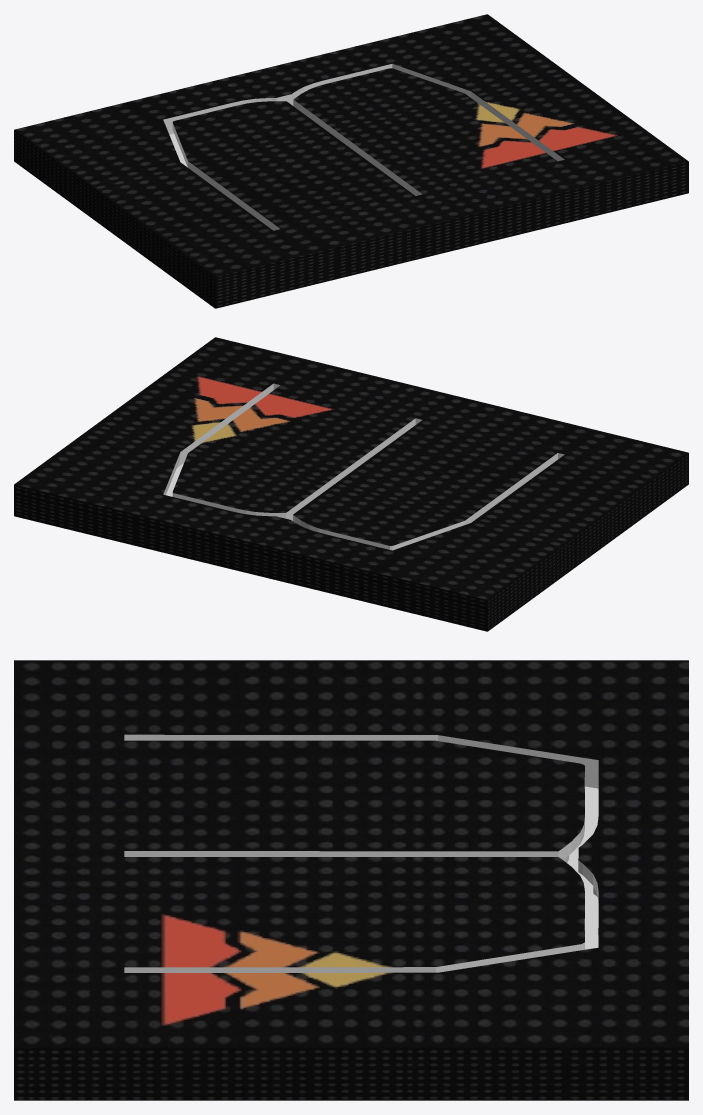
Rendered from BoxHanoiPuzzle.fbx.
3 views of the same model, one above another, from view 1: azimuth 30°, elevation 25°; view 2: azimuth 150°, elevation 25°; view 3: azimuth 270°, elevation 25° (orthographic). The views are drawn at different scales.
Visible parts, largest first — view 1: Box; view 2: Box; view 3: Box.
Boxes of the visible parts, x1=… form: Box: x1=14, y1=14, x2=688, y2=308; Box: x1=14, y1=337, x2=688, y2=631; Box: x1=14, y1=660, x2=688, y2=1100.
Bounding box in the file's own units: 3332 × 213 × 2454.
2 materials, 1 textured.
